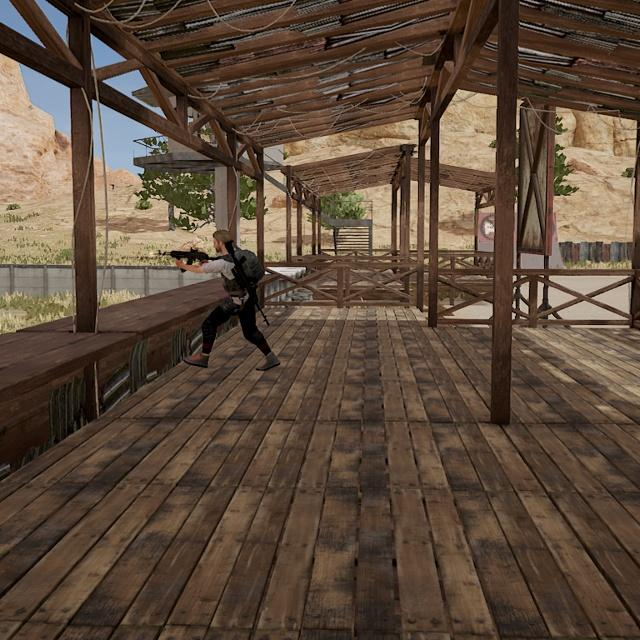head: (210, 229, 235, 254)
people: (184, 227, 280, 371)
